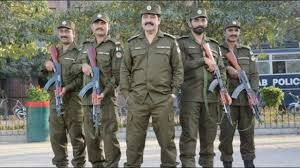gun: (198, 39, 238, 127), (223, 47, 264, 132), (78, 45, 104, 131), (46, 44, 65, 115)
uniform: (115, 30, 181, 156), (215, 26, 264, 157), (75, 31, 125, 159), (174, 28, 220, 160), (42, 41, 87, 159)
